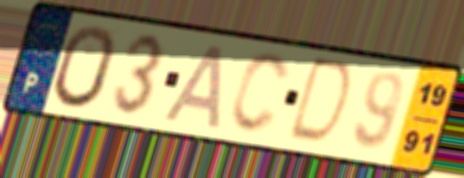3: (111, 31, 167, 119)
9: (350, 70, 407, 153)
A: (160, 42, 226, 132)
C: (227, 50, 292, 137)
D: (283, 55, 357, 150)
O: (50, 22, 119, 111)
